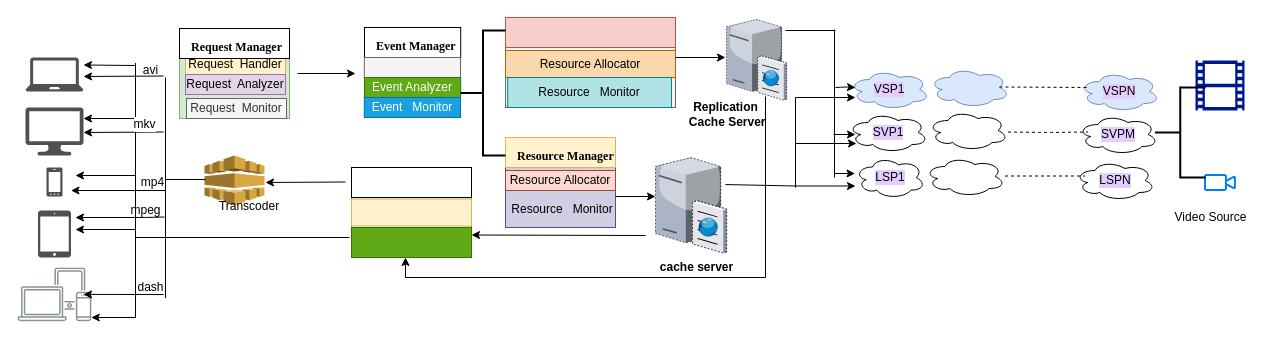
This 1273x360 diagram has some shape labels left out. Here are the shapes that lost their labels. From the top down, the centre of each, then its label:
At [590,32]: "Replication Resource Manager".
At [411,67]: "Event Handler".
At [969,87]: "VSP2".
At [967,130]: "SVP2".
At [411,182]: "Response Manager".
At [964,176]: "LSP2".
At [411,212]: "Response Handler".
At [411,242]: "Response Analyzer".
At [54,294]: "User Devices".
